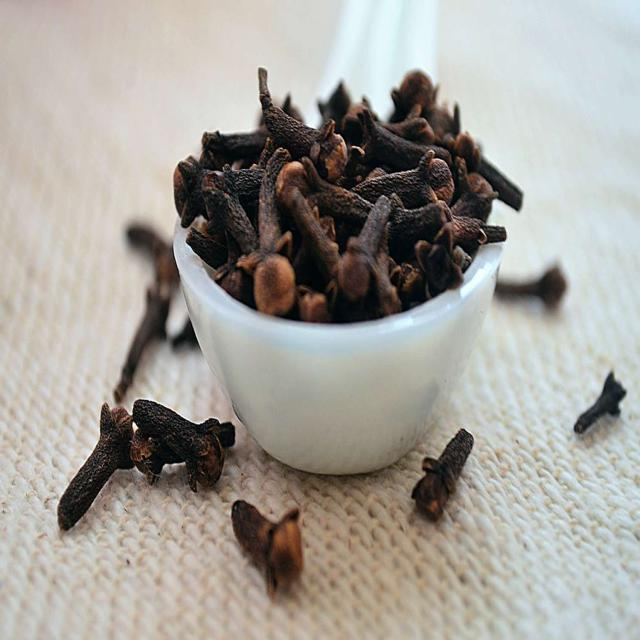clove: (174, 67, 510, 324)
